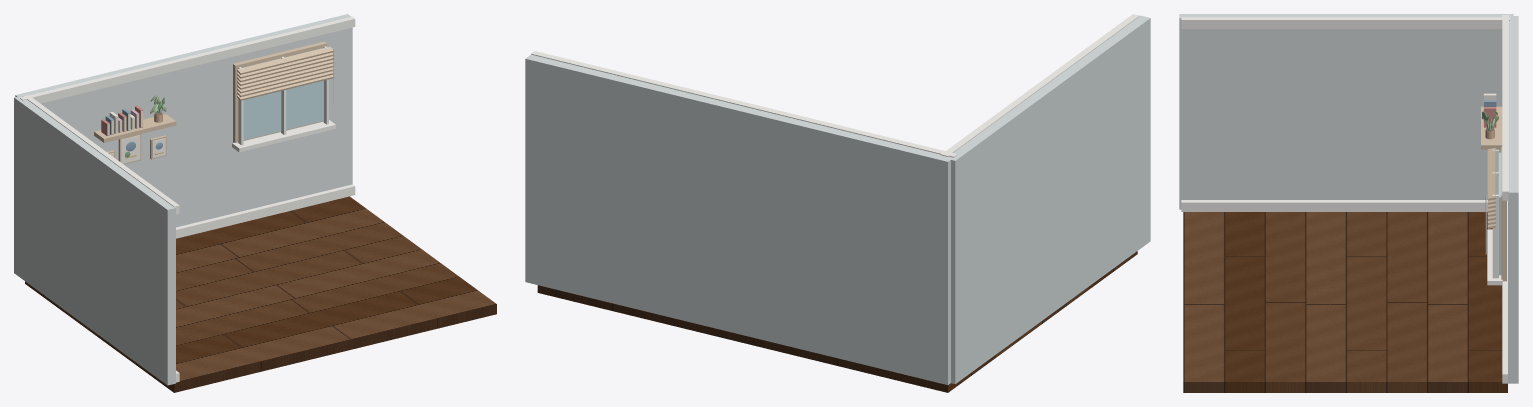
The picture shows the model from 3 angles, left to right: view 1: azimuth 30°, elevation 25°; view 2: azimuth 150°, elevation 25°; view 3: azimuth 270°, elevation 25°; orthographic projection. The views are drawn at different scales.
Parts seen in each view (by area): view 1: parquet_floor_1, left_wall_3, back_wall_2, back_moulding_6, window_daylight_9, back_moulding_4, window_frame_8, window_sill_13, side_moulding_7, floating_shelf_23, blind_slat_14, blind_slat_16 (+6 smaller); view 2: back_wall_2, left_wall_3, parquet_floor_1, back_moulding_6, side_moulding_7; view 3: parquet_floor_1, left_wall_3, side_moulding_7, back_wall_2, side_moulding_5, back_moulding_6, back_moulding_4, window_frame_8, floating_shelf_23, window_mullion_12, blind_slat_14, window_sill_13 (+1 smaller).
Boxes of the visible parts, x1,y1,x2,y2 form: parquet_floor_1: (25,196,496,392); left_wall_3: (14,95,175,385); back_wall_2: (15,14,352,227); back_moulding_6: (20,16,355,103); window_daylight_9: (242,48,323,139); back_moulding_4: (176,184,355,238); window_frame_8: (233,41,326,142); window_sill_13: (232,120,335,152); side_moulding_7: (24,95,179,214); floating_shelf_23: (94,114,176,142); blind_slat_14: (237,46,334,74); blind_slat_16: (237,56,334,82); back_wall_2: (525,54,953,384); left_wall_3: (946,15,1150,384); parquet_floor_1: (537,251,1137,392); back_moulding_6: (531,51,957,157); side_moulding_7: (941,14,1139,156); parquet_floor_1: (1183,212,1507,392); left_wall_3: (1179,14,1513,209); side_moulding_7: (1181,17,1509,28); back_wall_2: (1508,16,1518,383); side_moulding_5: (1181,200,1487,211); back_moulding_6: (1502,15,1508,200); back_moulding_4: (1502,200,1508,383); window_frame_8: (1501,146,1506,281); floating_shelf_23: (1481,106,1502,149); window_mullion_12: (1492,194,1498,278); blind_slat_14: (1487,148,1495,200); window_sill_13: (1487,229,1502,285).
Size of the model in its own units: 5.21 by 2.77 by 4.18.
Materials: 15 (1 with a texture image).
